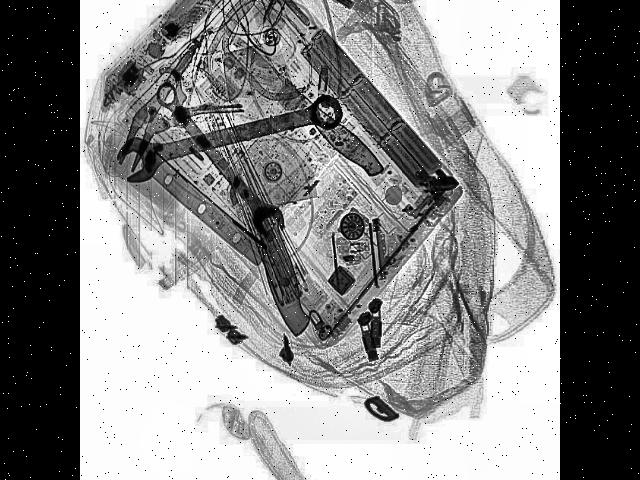Knife: (207, 19, 351, 341), (228, 27, 390, 184)
Wrench: (153, 69, 290, 247), (118, 83, 346, 187)
